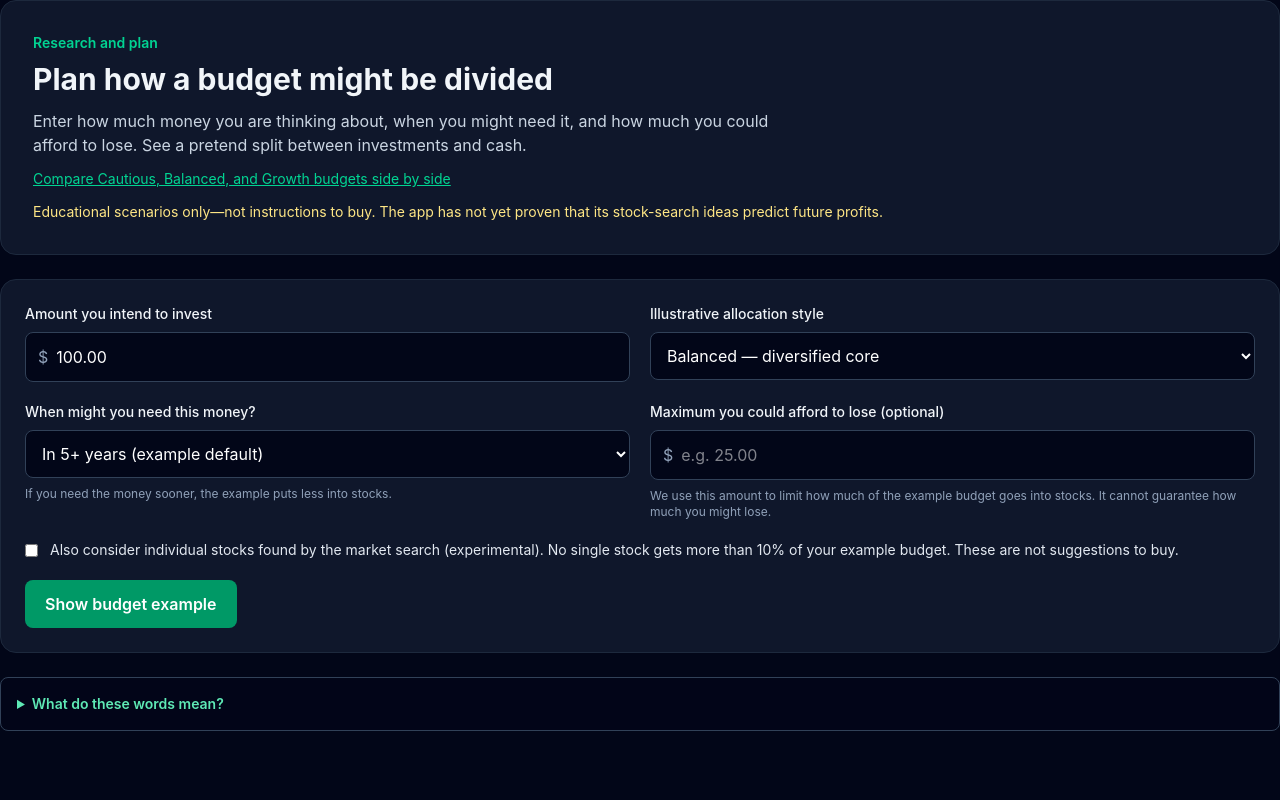
it: BudgetPlannerPage › shows explicit historical quality rules and exclusions when experimental analysis runs
Click the checkbox at (32, 550), box left=25, top=544, right=38, bottom=557
(page scrolled)
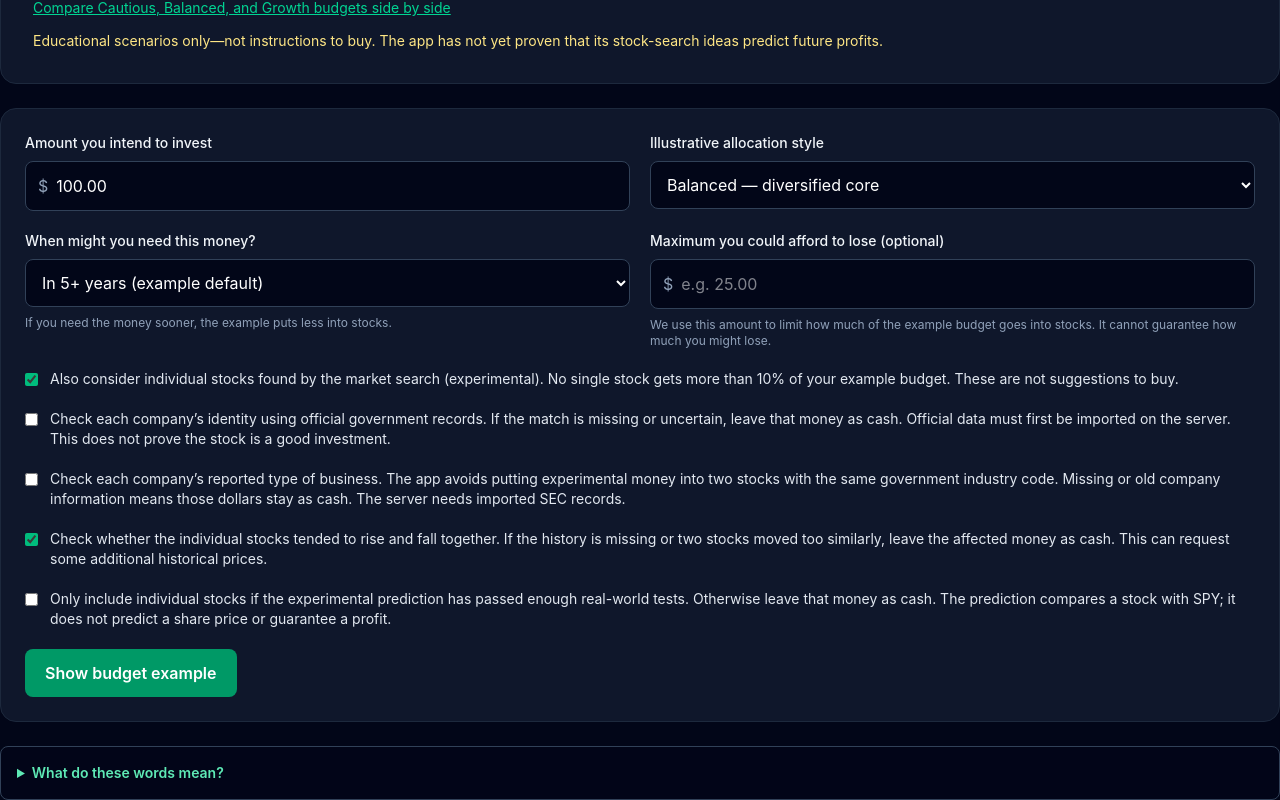
Click the button "Show budget example" at (131, 673), box left=25, top=649, right=236, bottom=697
(page scrolled)
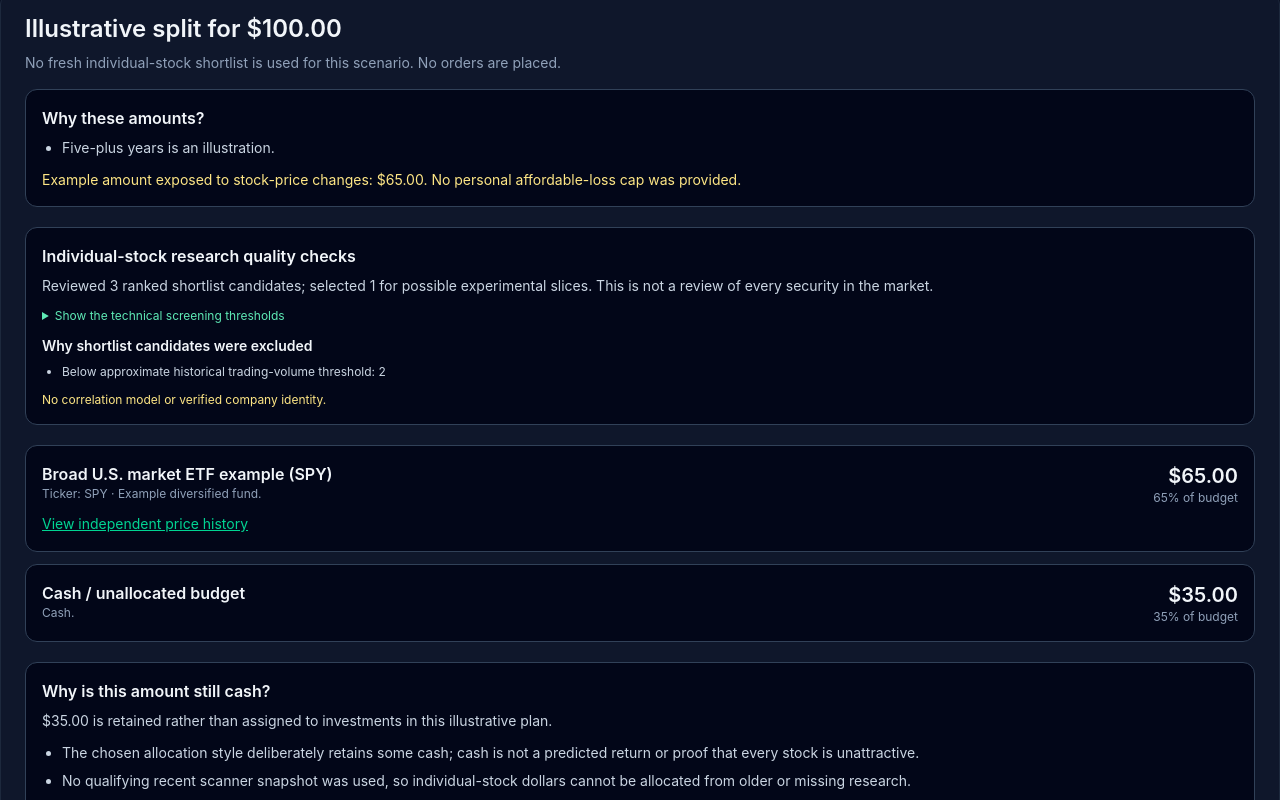
Expected: the heading "Individual-stock research quality checks" is shown, left=42, top=246, right=356, bottom=266
Expected: the text "Reviewed 3 ranked shortlist candidates" is shown, left=42, top=277, right=933, bottom=294
Expected: the list item "Below approximate historical trading-volume threshold: 2" is shown, left=62, top=364, right=386, bottom=379
